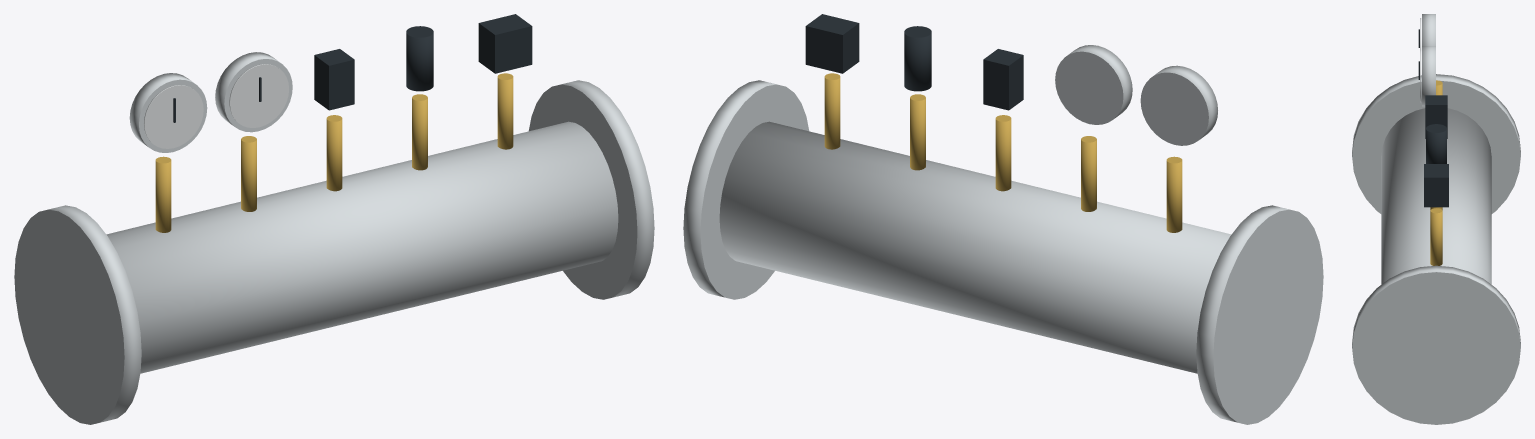
Rendered from collector__c4000-supply.glb.
3 renders of one model, left to right at view 1: azimuth 30°, elevation 25°; view 2: azimuth 150°, elevation 25°; view 3: azimuth 270°, elevation 25°, orthographic. The views are drawn at different scales.
Parts seen in each view (by area): view 1: Коллектор, Фланец, Фланец.001, Шкала, Шкала.001, Реле протока, Датчик давления, Термометр, Манометр, Датчик температуры, Отбор импульса.004, Отбор импульса (+3 smaller); view 2: Коллектор, Фланец, Фланец.001, Термометр, Манометр, Реле протока, Датчик давления, Датчик температуры, Отбор импульса.004, Отбор импульса, Отбор импульса.002, Отбор импульса.003 (+1 smaller); view 3: Фланец.001, Коллектор, Фланец, Реле протока, Датчик температуры, Отбор импульса.004, Термометр, Датчик давления, Манометр.
Part boxes in pixels (bbox=[...]): Коллектор: bbox=[106, 121, 618, 373]; Фланец: bbox=[14, 205, 141, 424]; Фланец.001: bbox=[528, 80, 654, 299]; Шкала: bbox=[143, 85, 203, 148]; Шкала.001: bbox=[229, 64, 288, 127]; Реле протока: bbox=[478, 14, 532, 73]; Датчик давления: bbox=[314, 49, 354, 110]; Термометр: bbox=[215, 52, 292, 132]; Манометр: bbox=[129, 73, 207, 152]; Датчик температуры: bbox=[406, 26, 433, 91]; Отбор импульса.004: bbox=[497, 73, 513, 149]; Отбор импульса: bbox=[155, 156, 171, 232]; Коллектор: bbox=[719, 121, 1231, 373]; Фланец: bbox=[1196, 205, 1323, 424]; Фланец.001: bbox=[683, 80, 809, 299]; Термометр: bbox=[1055, 45, 1132, 124]; Манометр: bbox=[1140, 65, 1217, 145]; Реле протока: bbox=[805, 14, 859, 73]; Датчик давления: bbox=[983, 49, 1023, 110]; Датчик температуры: bbox=[904, 26, 931, 91]; Отбор импульса.004: bbox=[824, 73, 840, 149]; Отбор импульса: bbox=[1166, 156, 1182, 232]; Отбор импульса.002: bbox=[995, 115, 1011, 191]; Отбор импульса.003: bbox=[910, 94, 925, 170]; Фланец.001: bbox=[1352, 265, 1520, 424]; Коллектор: bbox=[1381, 108, 1491, 284]; Фланец: bbox=[1352, 74, 1520, 213]; Реле протока: bbox=[1424, 164, 1448, 207]; Датчик температуры: bbox=[1426, 124, 1446, 163]; Отбор импульса.004: bbox=[1430, 208, 1442, 265]; Термометр: bbox=[1422, 46, 1435, 106]; Датчик давления: bbox=[1425, 95, 1447, 138]; Манометр: bbox=[1422, 14, 1435, 45].
Bounding box in the file's own units: 0.93 × 0.5375 × 0.335.
